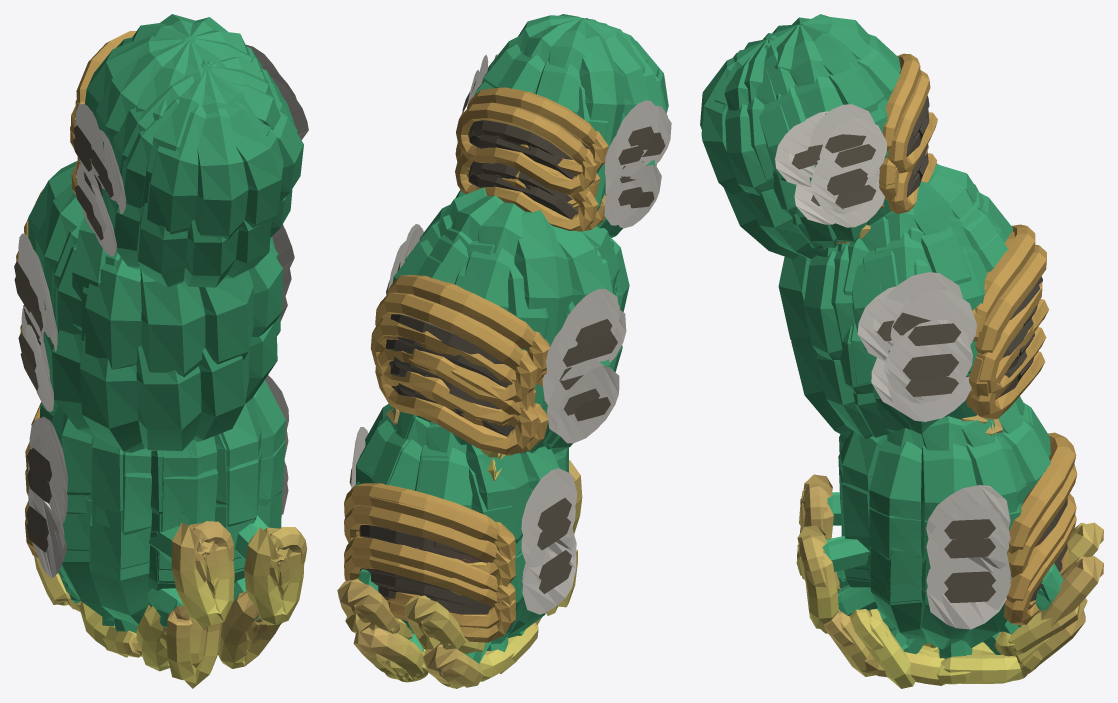
File: greengox3.fbx
3 renders of one model, left to right at view 1: azimuth 30°, elevation 25°; view 2: azimuth 150°, elevation 25°; view 3: azimuth 270°, elevation 25°, orthographic. The views are drawn at different scales.
Visible parts, largest first — view 1: NewLayer3; view 2: NewLayer3; view 3: NewLayer3.
Part boxes in pixels (bbox=[...]): NewLayer3: bbox=[14, 14, 308, 688]; NewLayer3: bbox=[337, 14, 671, 688]; NewLayer3: bbox=[700, 14, 1103, 688].
Bounding box in the file's own units: 1.87 × 4.58 × 2.69.
